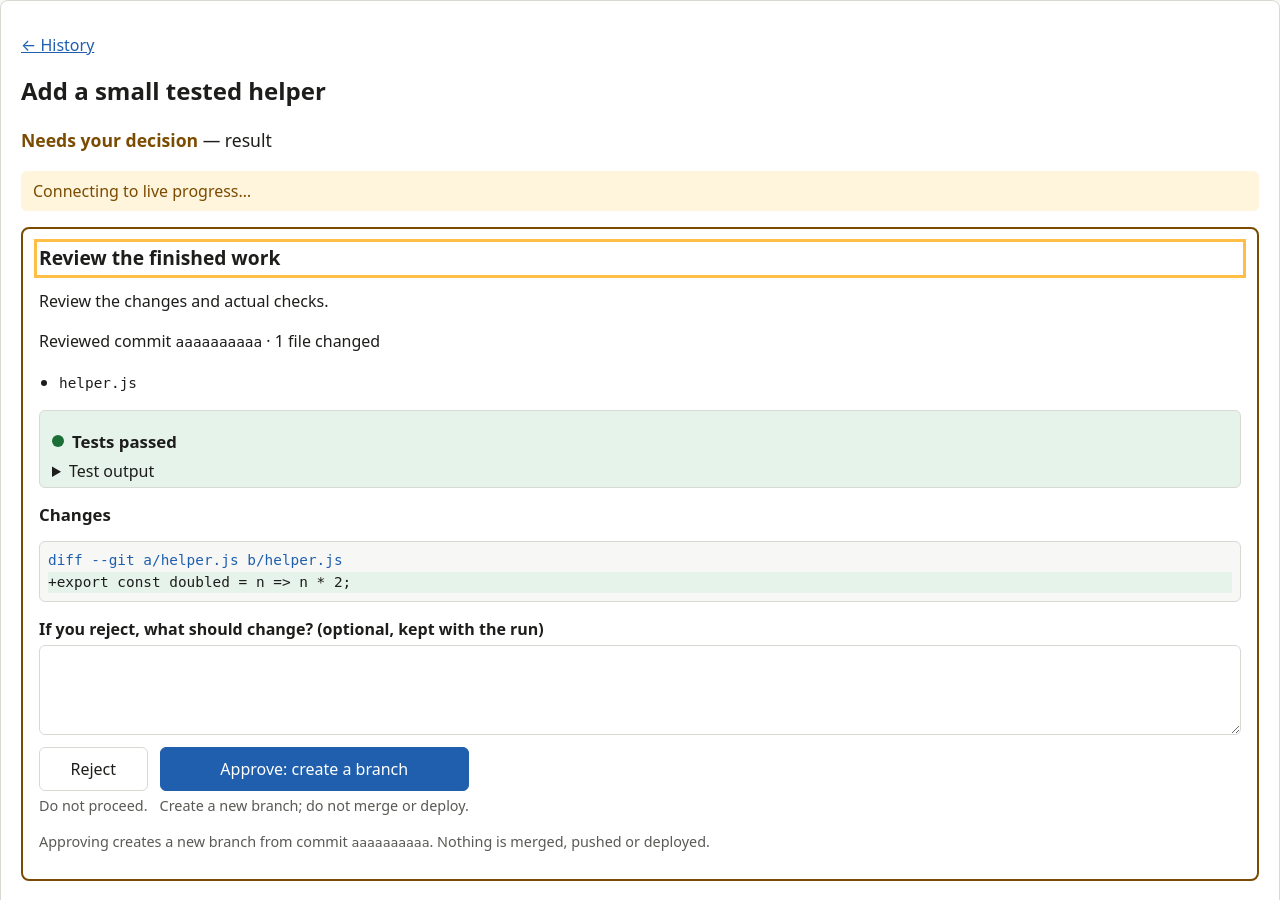
Scenario: result decision › a stale decision is refused, explained, and the run is reloaded
Click the button "Approve: create a branch": (314, 769) [160,747,469,791]
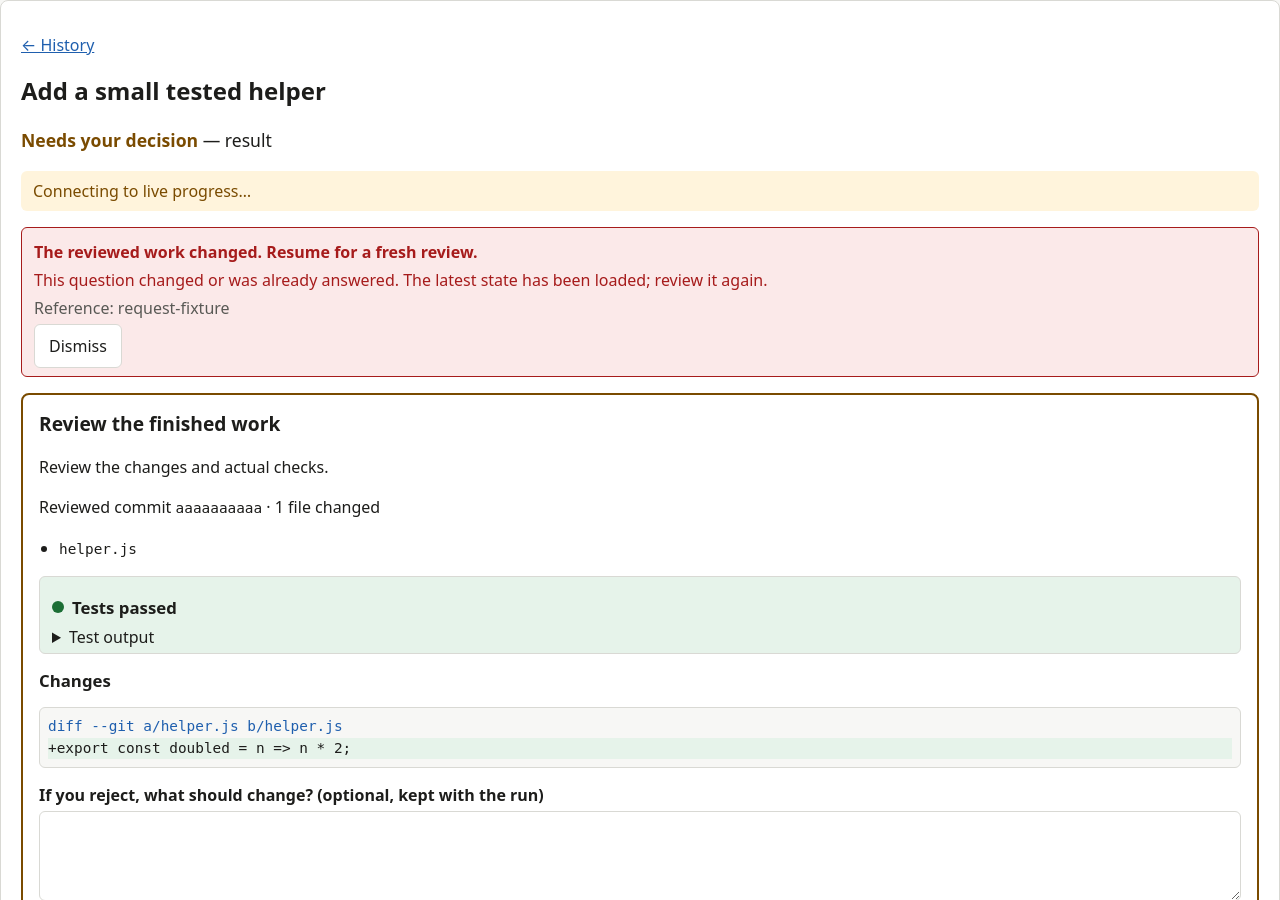
Check: the text "The reviewed work changed. Resume for a fresh review." is shown, box [34,241,478,263]
Check: the text "This question changed or was already answered" is shown, box [34,269,768,291]
